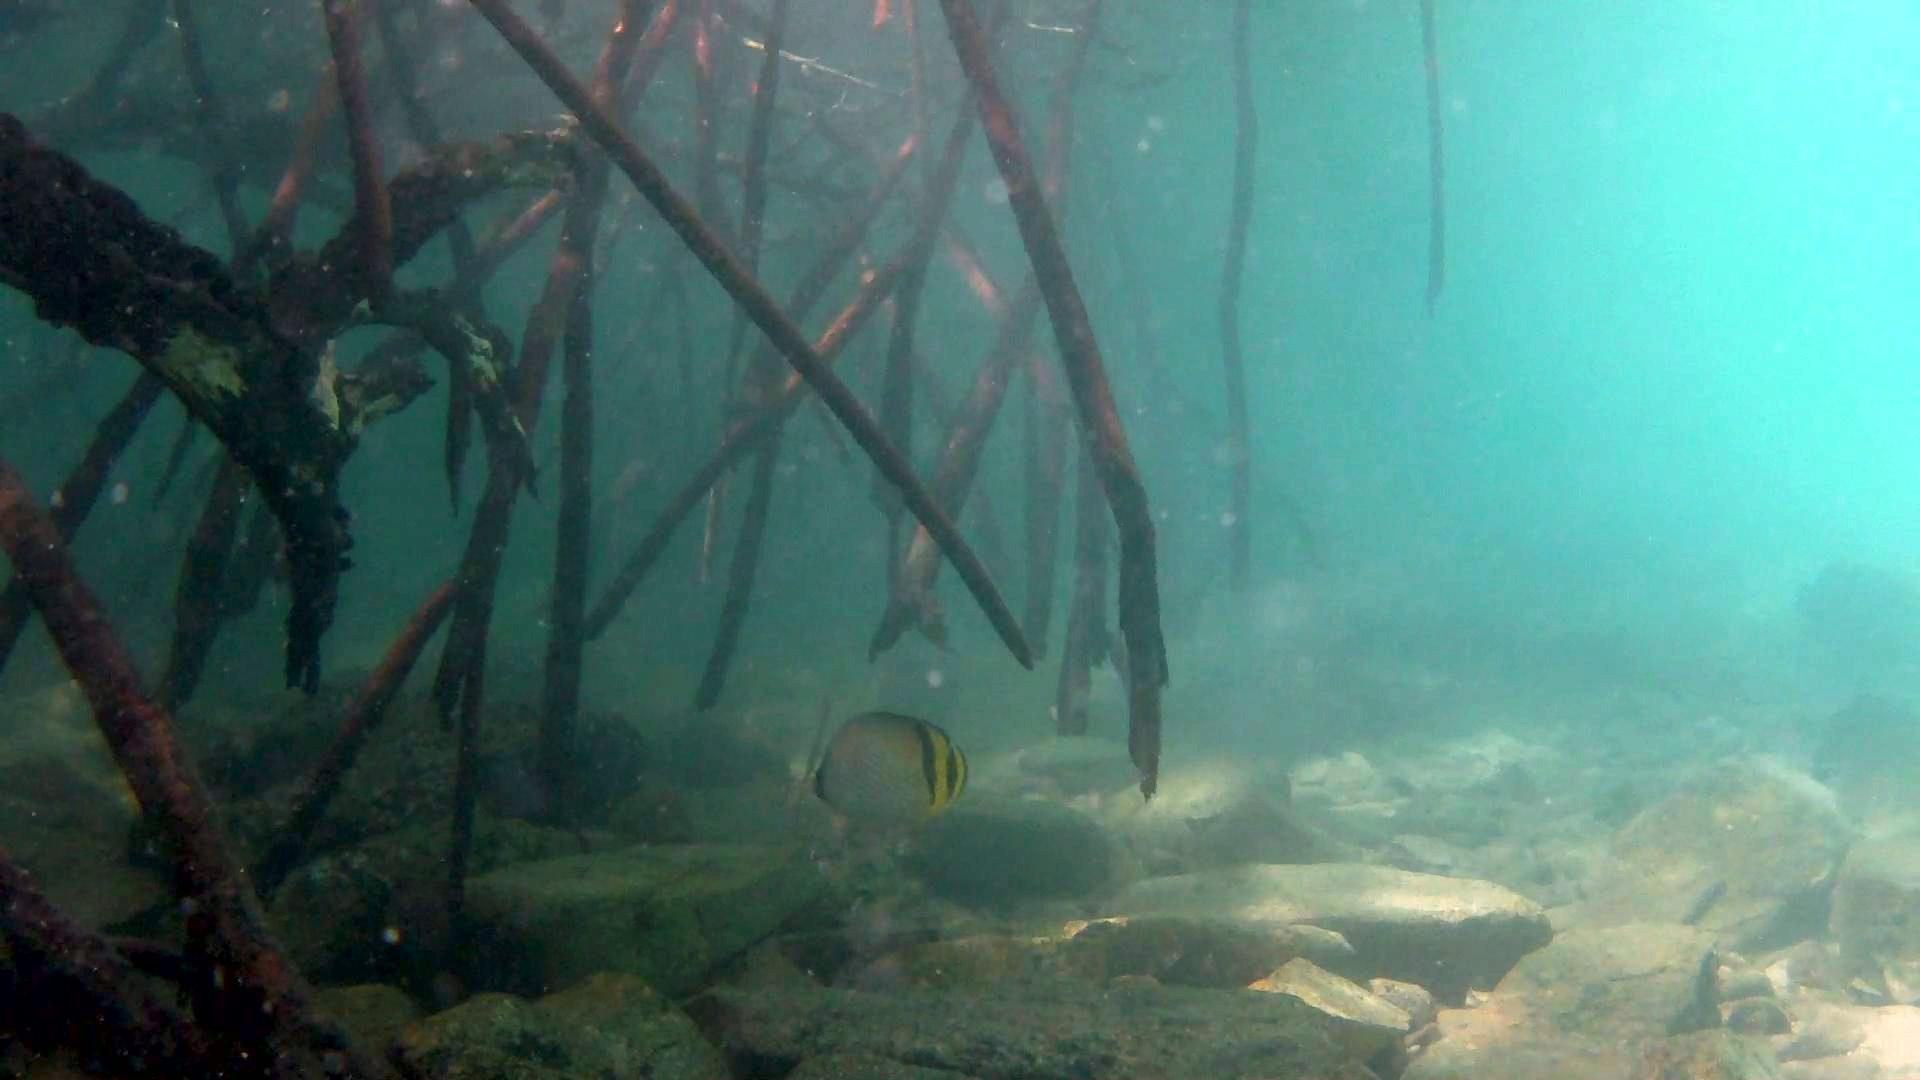chaetodon vagabundus: (794, 704, 976, 833)
